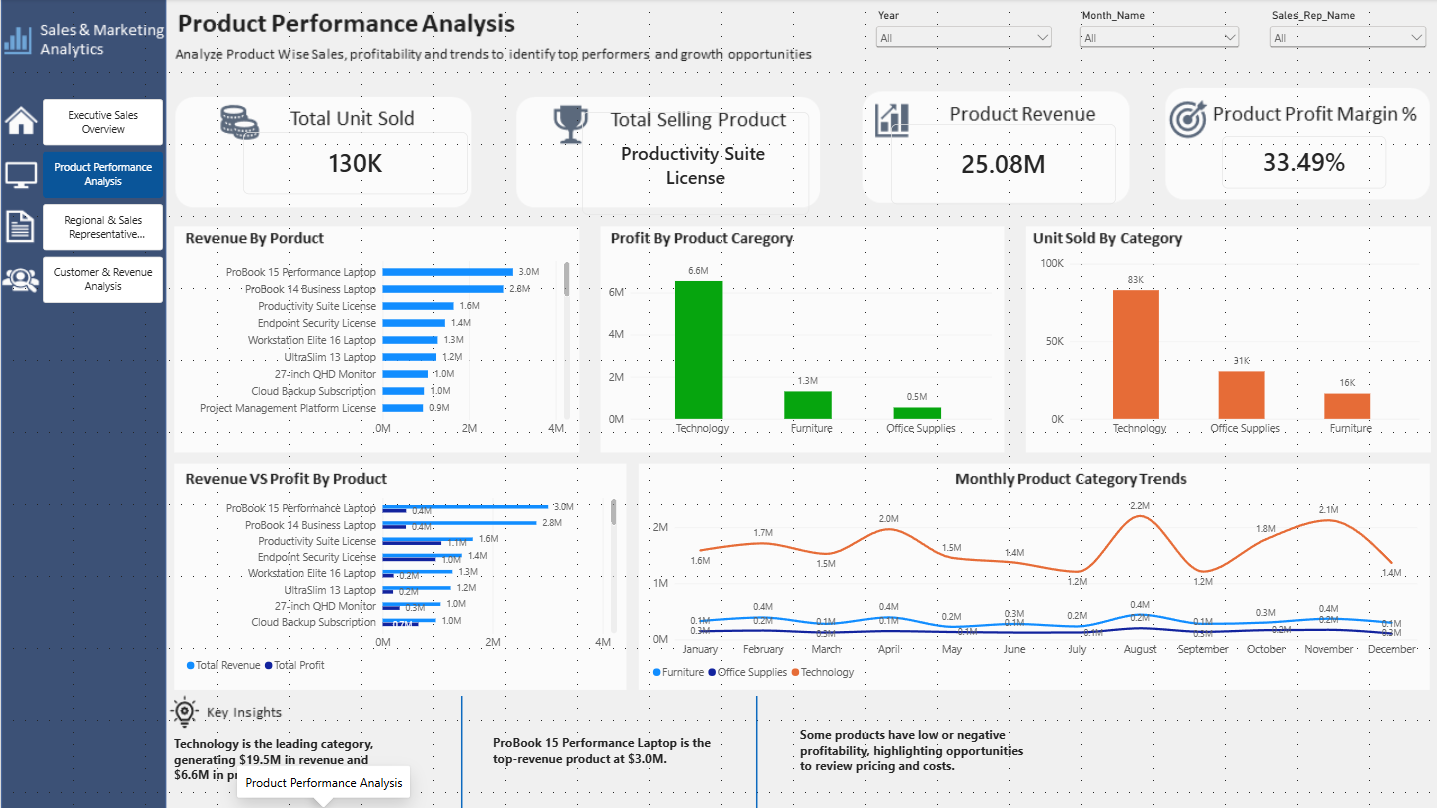

What the dashboard file says about the page in this screenshot:
{"tool":"powerbi","page":{"name":"Product Performance Analysis","canvas":[1920,1080],"ordinal":1},"visuals":[{"type":"card","fields":{"Values":["Sales_Transactions.Total Unit Sold"]},"box":[322.7,176,300,82.7],"z":0},{"type":"card","fields":{"Values":["Sales_Representatives.Top-Selling Product"]},"box":[774.1,149.3,302.7,137.3],"z":1000},{"type":"card","fields":{"Values":["Sales_Transactions.Total Revenue"]},"box":[1186.7,165.3,300.2,106.7],"z":2000},{"type":"card","fields":{"Values":["Sales_Transactions.Porfit Margin"]},"box":[1628,181.3,219.4,70.1],"z":3000},{"type":"clusteredBarChart","fields":{"Category":["Products.Product_Name"],"Y":["Sales_Transactions.Total Revenue"]},"box":[230.1,326.1,544,275.8],"z":4000},{"type":"clusteredColumnChart","fields":{"Category":["Products.Category"],"Y":["Sales_Transactions.Total Profit"]},"box":[793.9,326.1,544,275.8],"z":5000},{"type":"clusteredColumnChart","fields":{"Category":["Products.Category"],"Y":["Sales_Transactions.Total Unit Sold"]},"box":[1369.9,326.1,537.9,275.8],"z":6000},{"type":"clusteredBarChart","fields":{"Category":["Products.Product_Name"],"Y":["Sales_Transactions.Total Revenue","Sales_Transactions.Total Profit"]},"box":[230.7,642.7,606.7,274.7],"z":7000},{"type":"lineChart","fields":{"Category":["Customers.Acquisition_Date.Variation.Date Hierarchy.Month"],"Y":["Sales_Transactions.Total Revenue"],"Series":["Products.Category"]},"box":[852,642.7,1054.7,284],"z":8000},{"type":"pageNavigator","box":[56.7,132.2,160.5,273.8],"z":9000},{"type":"slicer","fields":{"Values":["Sales_Transactions.Order_Date Hierarchy.Year"]},"box":[1161.4,12.6,245.5,86.4],"z":10000},{"type":"slicer","fields":{"Values":["Sales_Transactions.Order_Date Hierarchy.Month_Name"]},"box":[1433.7,12.6,223.5,86.6],"z":11000},{"type":"slicer","fields":{"Values":["Sales_Representatives.Sales_Rep_Name"]},"box":[1687.1,12.6,218.8,86.6],"z":12000},{"type":"textbox","box":[230.4,980.6,304,72],"z":13000},{"type":"shape","box":[532.1,927.8,164.6,152.2],"z":14000},{"type":"textbox","box":[655.5,979.2,304,72],"z":15000},{"type":"shape","box":[925.7,928.5,164.6,152.2],"z":16000},{"type":"textbox","box":[1065.6,968.2,304,72],"z":17000}]}

Visuals, with their boxes on the page's 1920x1080 design canvas (x1, y1, x2, y2). These are canvas units, not pixel positions in the 1437x808 screenshot, which may show the page scaled, cropped or inside an application window:
card - Sales_Transactions.Total Unit Sold: bbox=[323, 176, 623, 259]
card - Sales_Representatives.Top-Selling Product: bbox=[774, 149, 1077, 287]
card - Sales_Transactions.Total Revenue: bbox=[1187, 165, 1487, 272]
card - Sales_Transactions.Porfit Margin: bbox=[1628, 181, 1847, 251]
clusteredBarChart - Products.Product_Name x Sales_Transactions.Total Revenue: bbox=[230, 326, 774, 602]
clusteredColumnChart - Products.Category x Sales_Transactions.Total Profit: bbox=[794, 326, 1338, 602]
clusteredColumnChart - Products.Category x Sales_Transactions.Total Unit Sold: bbox=[1370, 326, 1908, 602]
clusteredBarChart - Products.Product_Name x Sales_Transactions.Total Revenue: bbox=[231, 643, 837, 917]
lineChart - Customers.Acquisition_Date.Variation.Date Hierarchy.Month x Sales_Transactions.Total Revenue: bbox=[852, 643, 1907, 927]
pageNavigator: bbox=[57, 132, 217, 406]
slicer - Sales_Transactions.Order_Date Hierarchy.Year: bbox=[1161, 13, 1407, 99]
slicer - Sales_Transactions.Order_Date Hierarchy.Month_Name: bbox=[1434, 13, 1657, 99]
slicer - Sales_Representatives.Sales_Rep_Name: bbox=[1687, 13, 1906, 99]
textbox: bbox=[230, 981, 534, 1053]
shape: bbox=[532, 928, 697, 1080]
textbox: bbox=[656, 979, 960, 1051]
shape: bbox=[926, 928, 1090, 1081]
textbox: bbox=[1066, 968, 1370, 1040]
